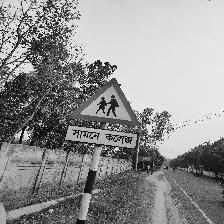College-in-front: (64, 73, 140, 157)
